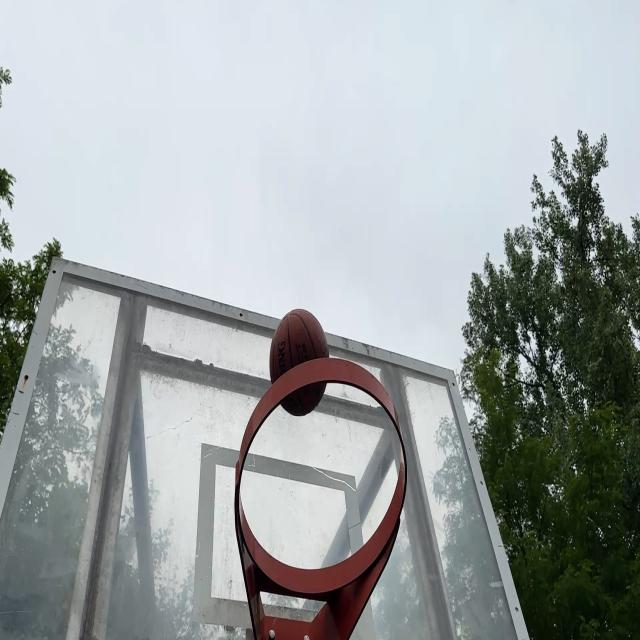rebound_hit: (270, 307, 329, 416)
